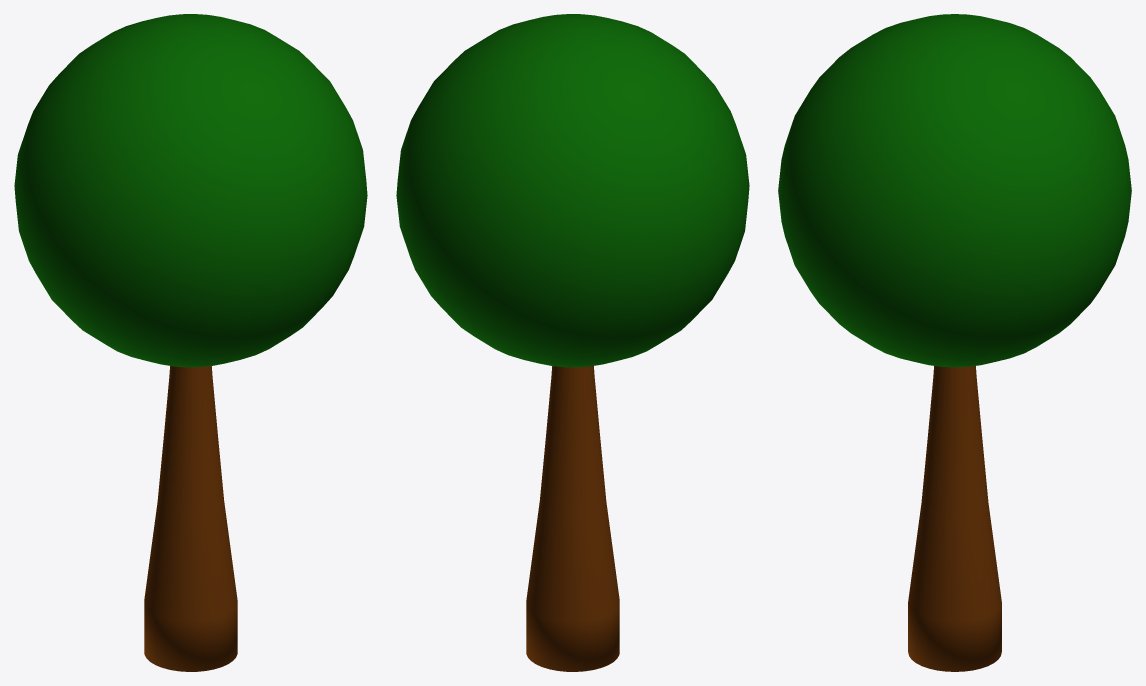
File: Tree.fbx
3 views of the same model, side by side, from view 1: azimuth 30°, elevation 25°; view 2: azimuth 150°, elevation 25°; view 3: azimuth 270°, elevation 25° (orthographic).
Parts seen in each view (by area): view 1: Sphere, Cylinder; view 2: Sphere, Cylinder; view 3: Sphere, Cylinder.
Boxes of the visible parts, box(x1,y1,x2,y2) form: Sphere: box(14, 14, 367, 367); Cylinder: box(144, 366, 237, 671); Sphere: box(396, 14, 749, 367); Cylinder: box(526, 366, 619, 671); Sphere: box(778, 14, 1131, 367); Cylinder: box(908, 366, 1001, 671).
Size of the model in its own units: 740 by 1435 by 740.
